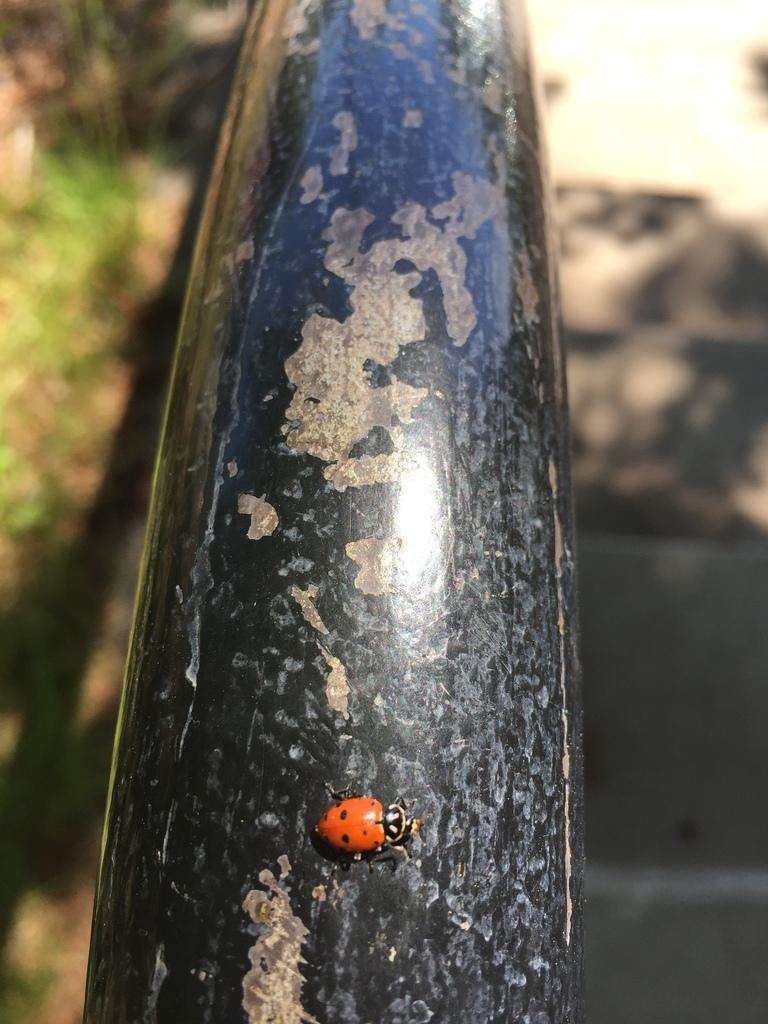ladybug: (312, 780, 424, 878)
